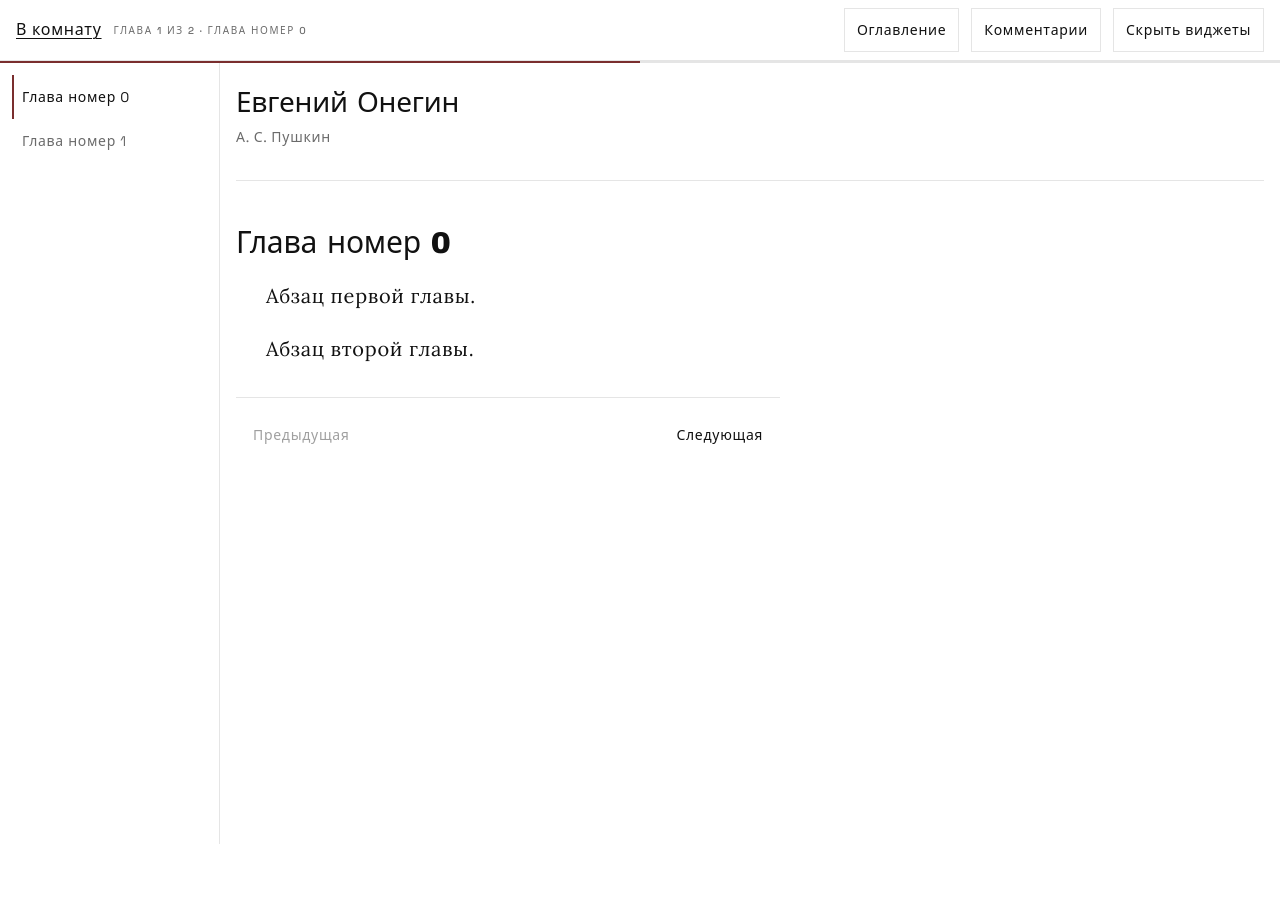
Test: оглавление на узком экране › кнопка открывает и закрывает панель
This screenshot has width=1280, height=900.
Expected: the element with class "chapter" is shown, left=236, top=227, right=476, bottom=361
Click the button "Оглавление": (902, 30) left=844, top=8, right=959, bottom=52
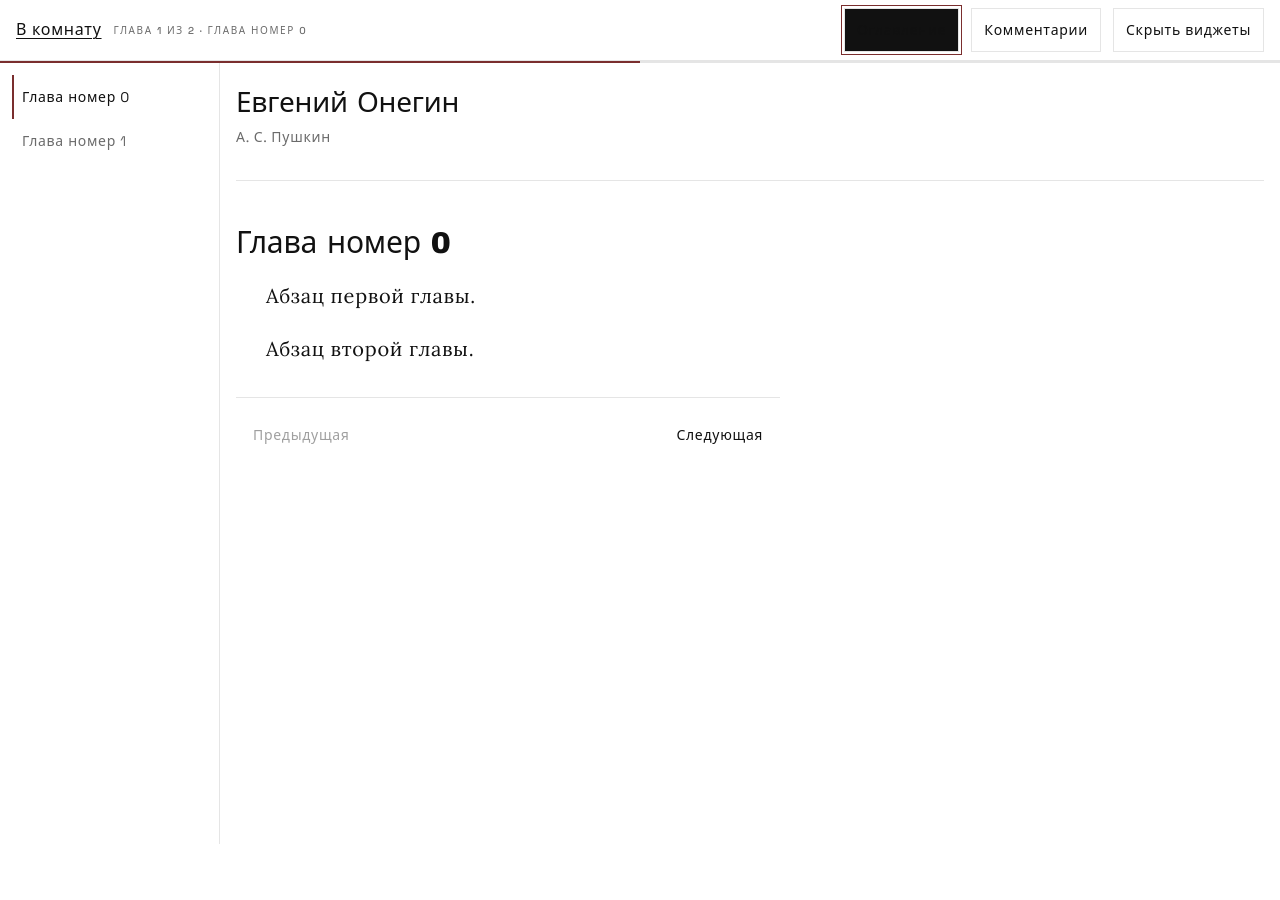
Expected: the button "Оглавление" is expanded
Click the button "Оглавление": (902, 30) left=844, top=8, right=959, bottom=52
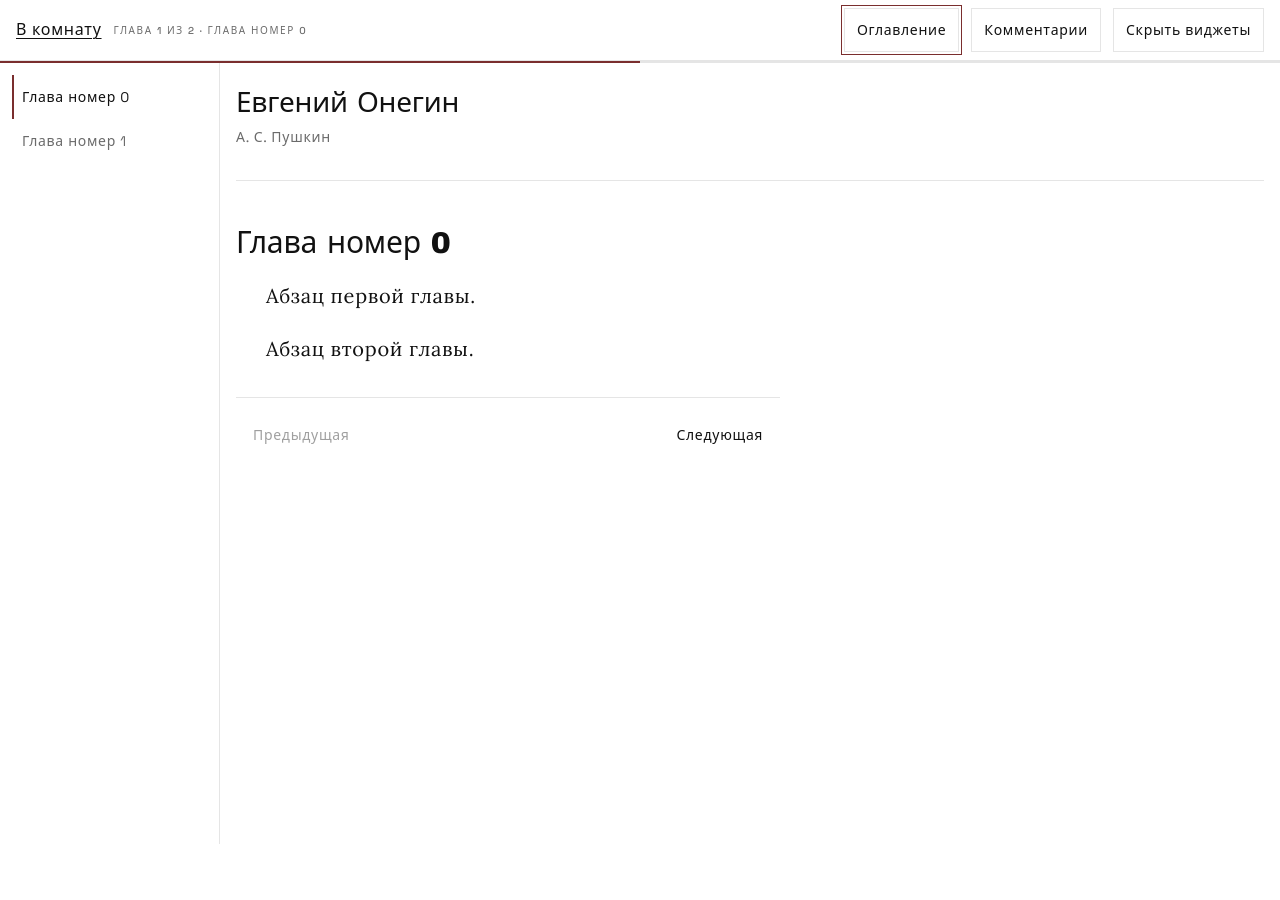
Expected: the button "Оглавление" is collapsed, left=844, top=8, right=959, bottom=52
